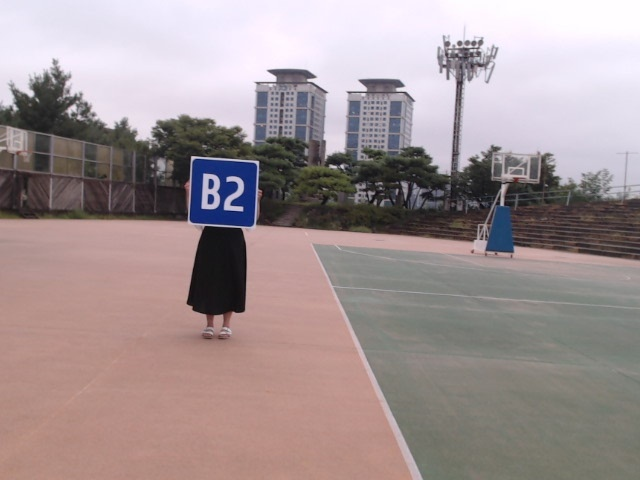delivery_b2: (187, 157, 259, 228)
